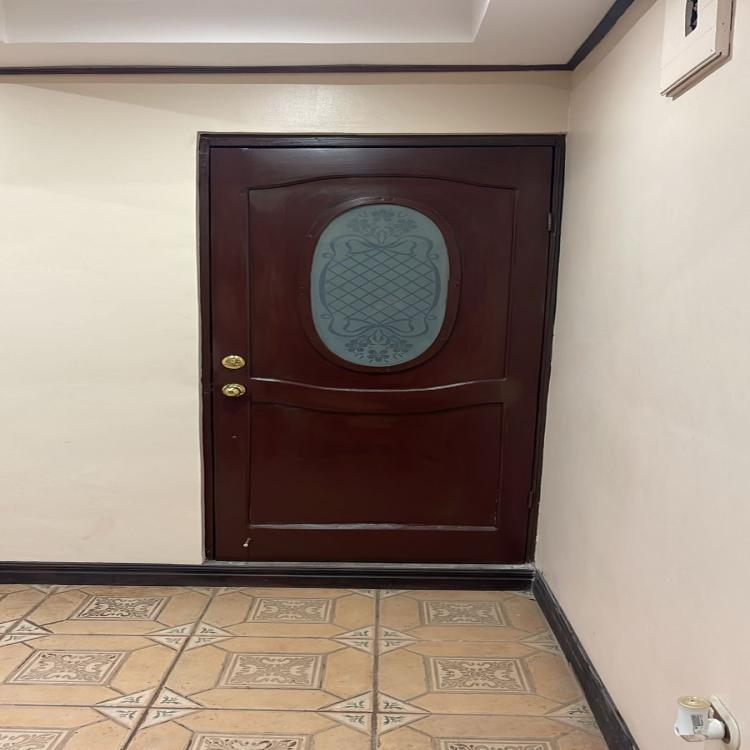ClosedDoor: (188, 127, 567, 570)
